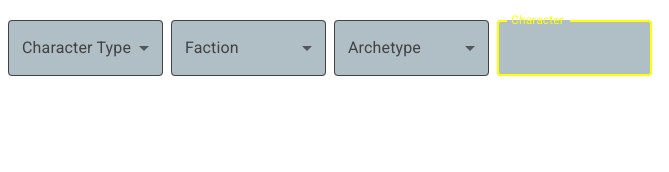
Test case: CharacterFilters Component › archetype filter › should handle empty archetypes array
Step 1. Press the mouse on the dropdown named "Archetype" next to "Archetype" → (412, 48), box [334,20,489,76]
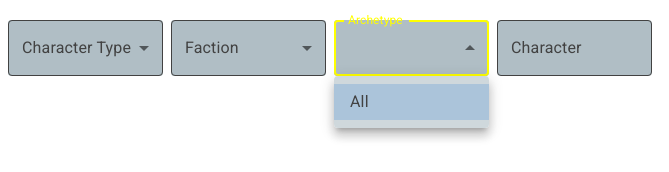
Check: the option "All" is shown, box [334,84,489,120]
